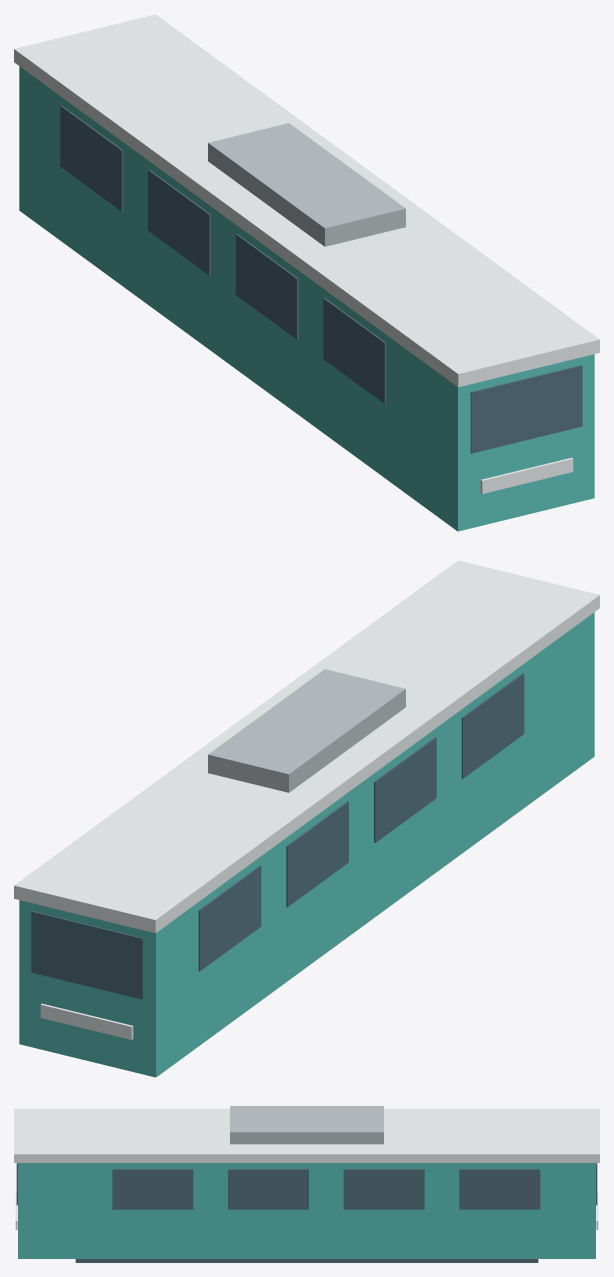
File: demo-tram.glb
3 renders of one model, top to bottom at view 1: azimuth 30°, elevation 25°; view 2: azimuth 150°, elevation 25°; view 3: azimuth 270°, elevation 25°, orthographic. The views are drawn at different scales.
Bounding box in the file's own units: 2.8 × 3.62 × 15.2.
